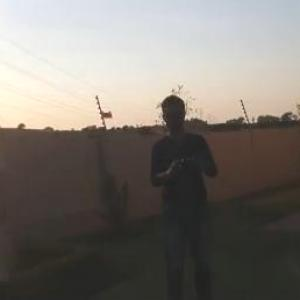follow: (147, 89, 229, 299)
